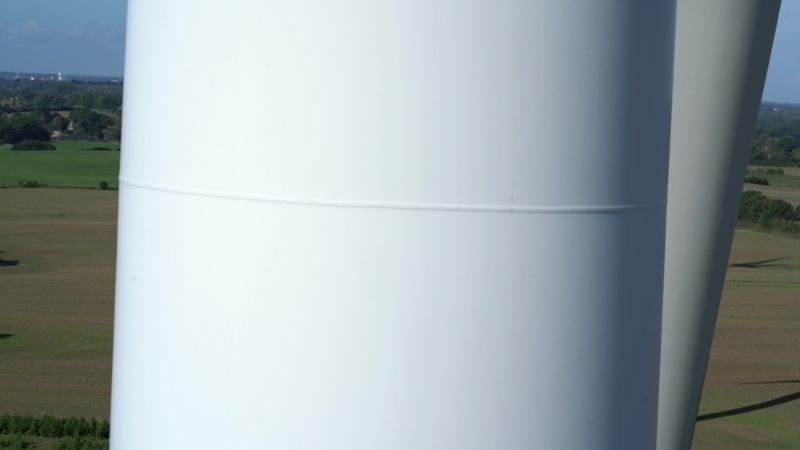weldseam: (116, 169, 669, 224)
